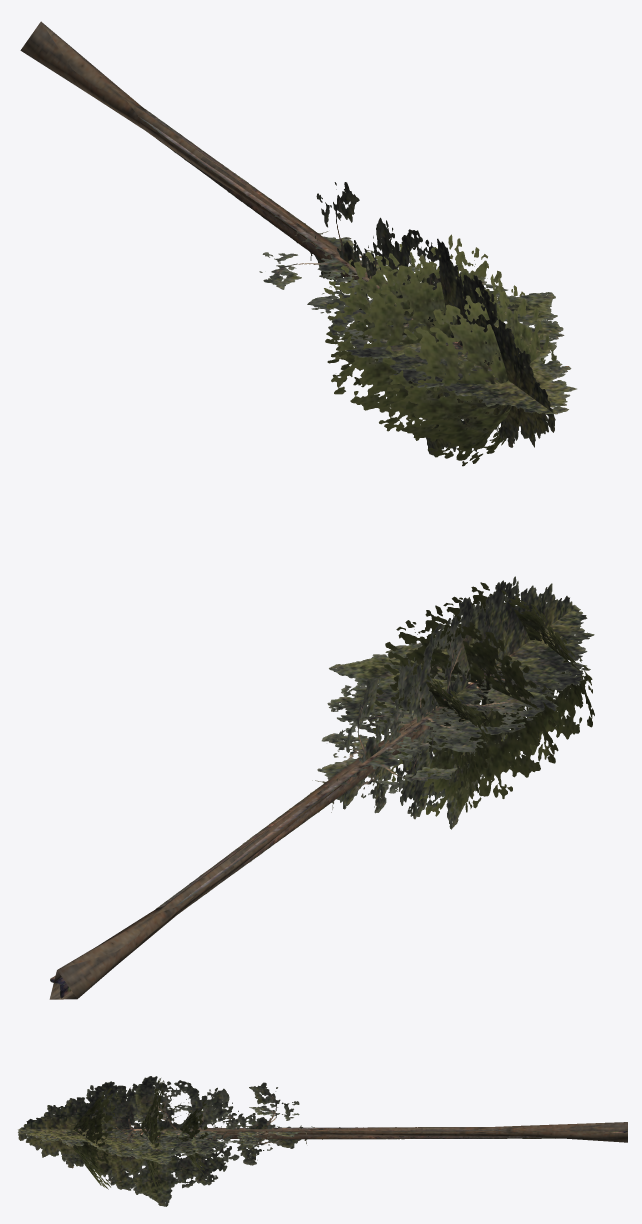
The model's file is tree_background_05.obj.
3 views of the same model, one above another, from view 1: azimuth 30°, elevation 25°; view 2: azimuth 150°, elevation 25°; view 3: azimuth 270°, elevation 25° (orthographic). The views are drawn at different scales.
Parts seen in each view (by area): view 1: tree_background_05; view 2: tree_background_05; view 3: tree_background_05.
Boxes of the visible parts, left/top/right/bottom form: tree_background_05: left=20, top=21, right=576, bottom=466; tree_background_05: left=49, top=576, right=594, bottom=999; tree_background_05: left=18, top=1076, right=627, bottom=1206.
Size of the model in its own units: 8.86 by 8.55 by 33.27.
1 material, 1 textured.
